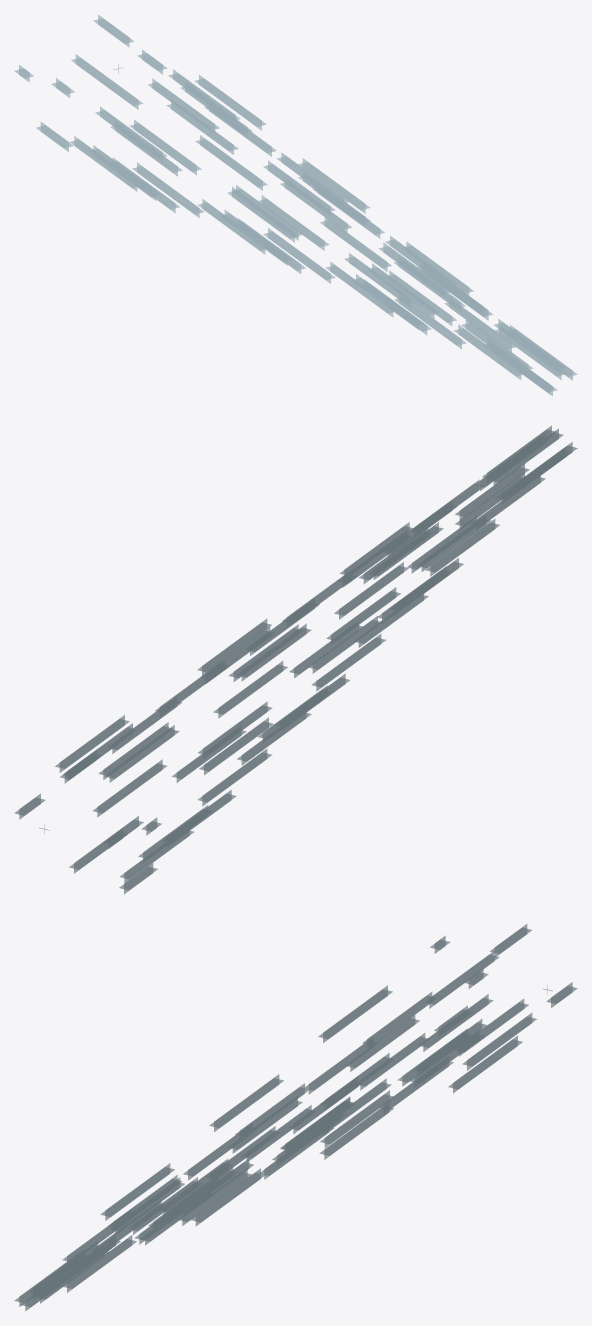
Rendered from wp_water_331.obj.
3 views of the same model, one above another, from view 1: azimuth 30°, elevation 25°; view 2: azimuth 150°, elevation 25°; view 3: azimuth 330°, elevation 25° (orthographic). The views are drawn at different scales.
Bounding box in the file's own units: 0.3125 × 0.2372 × 1.8.
1 material, 1 textured.
